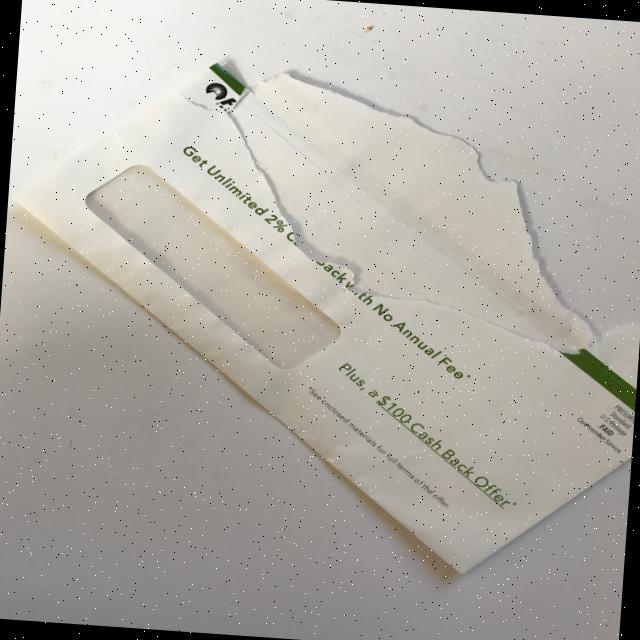paper: (0, 46, 640, 585)
